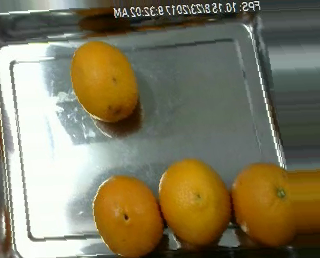Orange: (158, 158, 232, 245), (92, 173, 165, 257), (70, 39, 141, 122)
